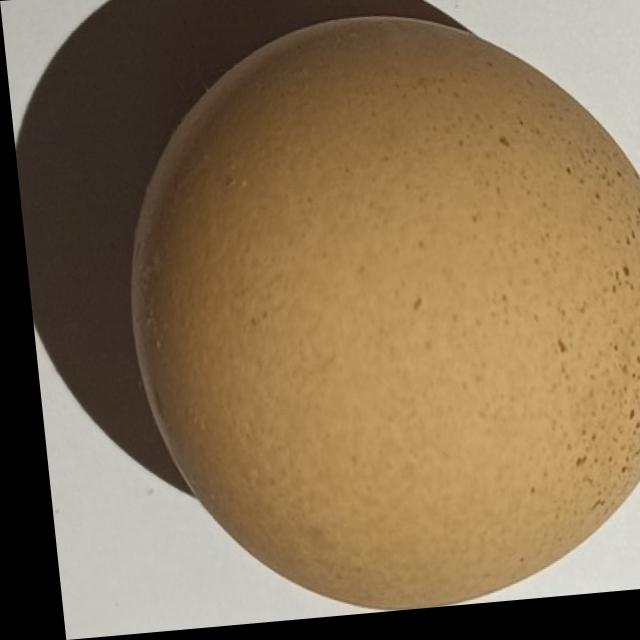unfresh: (96, 0, 640, 633)
